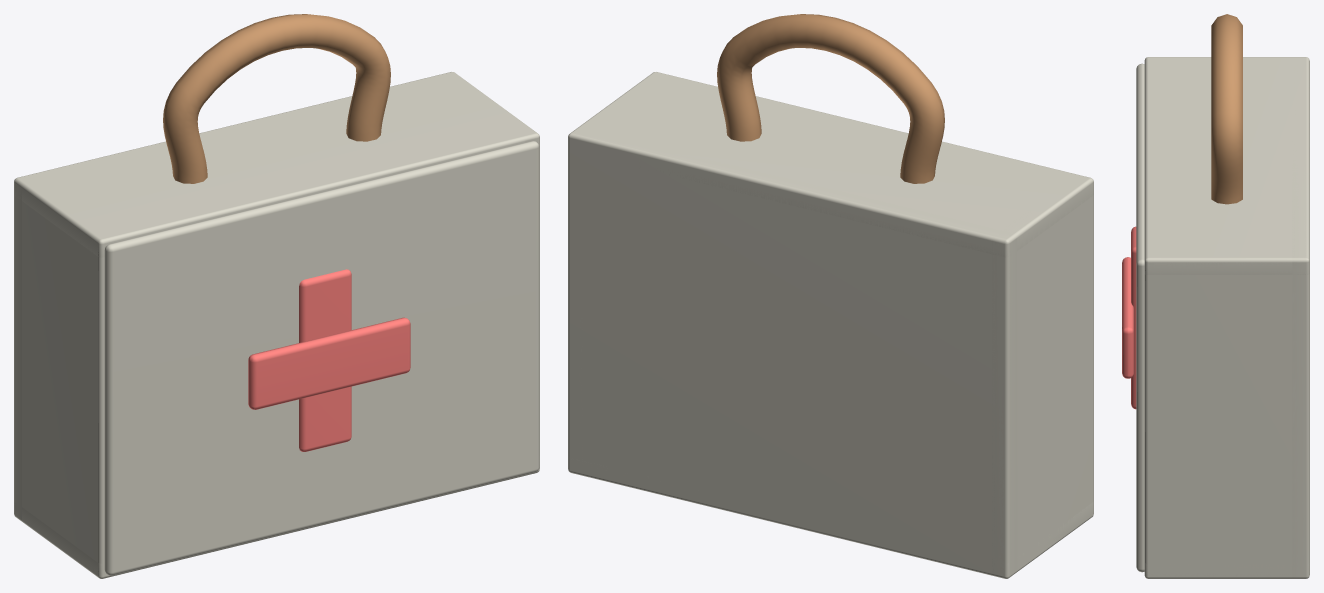
Rendered from officeMedicalKitAni.glb.
3 views of the same model, side by side, from view 1: azimuth 30°, elevation 25°; view 2: azimuth 150°, elevation 25°; view 3: azimuth 270°, elevation 25° (orthographic). The views are drawn at different scales.
Visible parts, largest first — view 1: Medical kit front, Storage inner floor.001, Storage inner side, Handle, Medical cross h, Medical cross v, Storage inner back, Storage inner floor; view 2: Storage inner back, Storage inner floor.001, Storage inner side, Handle, Storage inner floor; view 3: Storage inner side.001, Storage inner floor.001, Storage inner back, Handle, Medical kit front, Medical cross h, Medical cross v, Storage inner floor.
Part boxes in pixels (x1,y1,x2,y2): Medical kit front: (104, 141, 539, 575); Storage inner floor.001: (14, 72, 539, 257); Storage inner side: (22, 201, 115, 578); Handle: (163, 14, 390, 183); Medical cross h: (248, 317, 410, 409); Medical cross v: (299, 269, 351, 451); Storage inner back: (14, 72, 455, 520); Storage inner floor: (14, 456, 539, 578); Storage inner back: (568, 136, 1017, 578); Storage inner floor.001: (568, 72, 1093, 257); Storage inner side: (992, 192, 1093, 575); Handle: (717, 14, 944, 183); Storage inner floor: (568, 458, 1093, 574); Storage inner side.001: (1144, 259, 1308, 578); Storage inner floor.001: (1144, 57, 1309, 274); Storage inner back: (1292, 61, 1309, 578); Handle: (1211, 14, 1242, 204); Medical kit front: (1136, 63, 1144, 572); Medical cross h: (1122, 257, 1133, 378); Medical cross v: (1131, 226, 1136, 409); Storage inner floor: (1144, 563, 1309, 578).
Size of the model in its own units: 1.02 by 1.05 by 0.3975.
